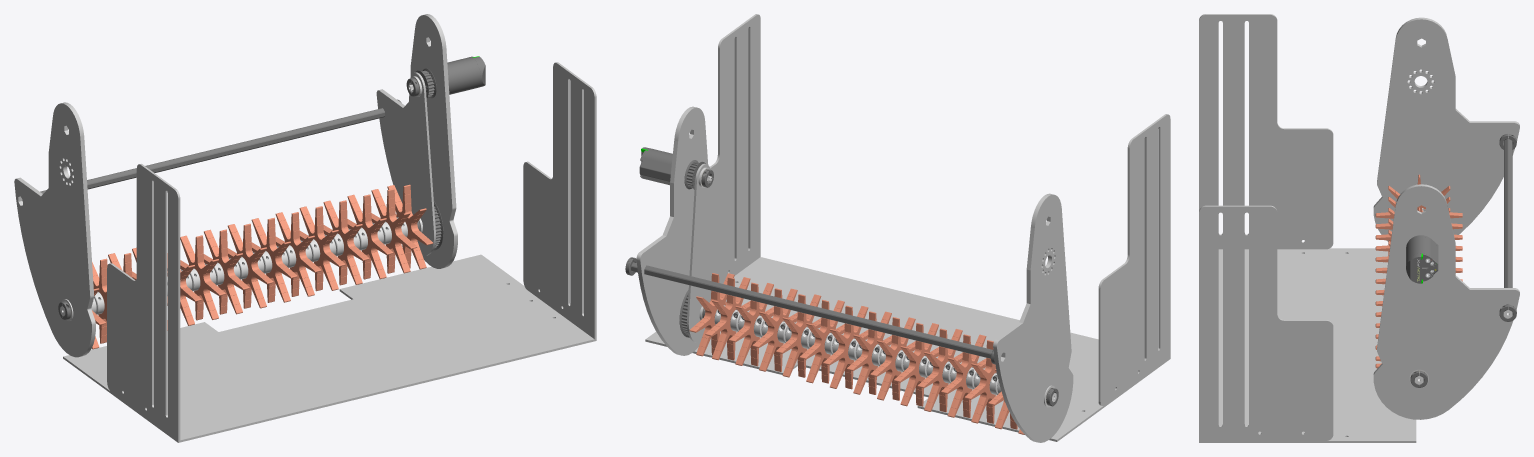
3 views of the same model, side by side, from view 1: azimuth 30°, elevation 25°; view 2: azimuth 150°, elevation 25°; view 3: azimuth 270°, elevation 25° (orthographic). The views are drawn at different scales.
Parts seen in each view (by area): view 1: Hopper Back Plate, Outer Sliding Plate, Outer Sliding Plate.001, Intake Side Wall Right, Intake Side Wall Right.001, Inner belt protector, 1/2" Rounded Hex (23.5" L, 13.75mm OD).001, 5" Compliant Star (40A, 1/2" Hex Bore).006, 5" Compliant Star (40A, 1/2" Hex Bore).007, 5" Compliant Star (40A, 1/2" Hex Bore).008, 5" Compliant Star (40A, 1/2" Hex Bore).012, 5" Compliant Star (40A, 1/2" Hex Bore).003 (+8 smaller); view 2: Outer Sliding Plate, Hopper Back Plate, Intake Side Wall Right, Outer Sliding Plate.001, Intake Side Wall Right.001, 1/2" Rounded Hex (23.5" L, 13.75mm OD).001, Inner belt protector, 5" Compliant Star (40A, 1/2" Hex Bore).003, 5" Compliant Star (40A, 1/2" Hex Bore).010, 5" Compliant Star (40A, 1/2" Hex Bore).013, 5" Compliant Star (40A, 1/2" Hex Bore).014, 5" Compliant Star (40A, 1/2" Hex Bore).001 (+9 smaller); view 3: Outer Sliding Plate.001, Outer Sliding Plate, Intake Side Wall Right.001, Intake Side Wall Right, Hopper Back Plate, 1/2" Rounded Hex (23.5" L, 13.75mm OD).001, Kraken X44 Brushless Motor, 5" Compliant Star (40A, 1/2" Hex Bore).005.
Boxes of the visible parts, <box> form: Hopper Back Plate: <box>63,254,596,442</box>; Outer Sliding Plate: <box>107,164,180,440</box>; Outer Sliding Plate.001: <box>523,62,596,339</box>; Intake Side Wall Right: <box>14,102,95,357</box>; Intake Side Wall Right.001: <box>376,14,457,268</box>; Inner belt protector: <box>402,72,435,255</box>; 1/2" Rounded Hex (23.5" L, 13.75mm OD).001: <box>22,108,384,201</box>; 5" Compliant Star (40A, 1/2" Hex Bore).006: <box>251,217,297,302</box>; 5" Compliant Star (40A, 1/2" Hex Bore).007: <box>347,194,393,279</box>; 5" Compliant Star (40A, 1/2" Hex Bore).008: <box>180,235,225,320</box>; 5" Compliant Star (40A, 1/2" Hex Bore).012: <box>227,223,273,308</box>; 5" Compliant Star (40A, 1/2" Hex Bore).003: <box>204,229,249,314</box>; Outer Sliding Plate: <box>1098,114,1170,405</box>; Hopper Back Plate: <box>645,257,1170,441</box>; Intake Side Wall Right: <box>993,193,1073,442</box>; Outer Sliding Plate.001: <box>710,14,760,283</box>; Intake Side Wall Right.001: <box>636,106,708,355</box>; 1/2" Rounded Hex (23.5" L, 13.75mm OD).001: <box>631,262,1001,358</box>; Inner belt protector: <box>687,163,718,342</box>; 5" Compliant Star (40A, 1/2" Hex Bore).003: <box>870,317,915,400</box>; 5" Compliant Star (40A, 1/2" Hex Bore).010: <box>799,299,844,383</box>; 5" Compliant Star (40A, 1/2" Hex Bore).013: <box>752,288,797,371</box>; 5" Compliant Star (40A, 1/2" Hex Bore).014: <box>776,294,821,377</box>; 5" Compliant Star (40A, 1/2" Hex Bore).001: <box>705,276,750,360</box>; Outer Sliding Plate.001: <box>1199,205,1333,440</box>; Outer Sliding Plate: <box>1199,14,1333,249</box>; Intake Side Wall Right.001: <box>1373,184,1519,419</box>; Intake Side Wall Right: <box>1373,17,1519,241</box>; Hopper Back Plate: <box>1199,248,1416,442</box>; 1/2" Rounded Hex (23.5" L, 13.75mm OD).001: <box>1504,137,1512,318</box>; Kraken X44 Brushless Motor: <box>1406,235,1438,283</box>; 5" Compliant Star (40A, 1/2" Hex Bore).005: <box>1375,174,1462,241</box>.
Size of the model in its own units: 0.6671 by 0.381 by 0.4687.
